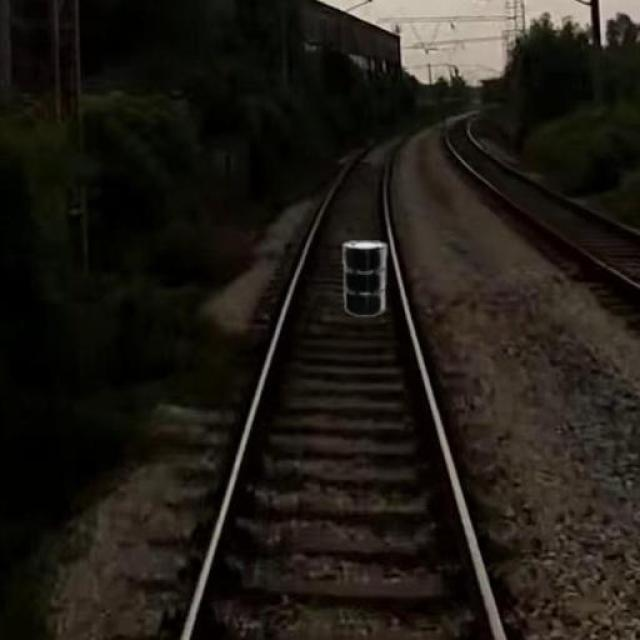Other_objects: (340, 238, 398, 334)
